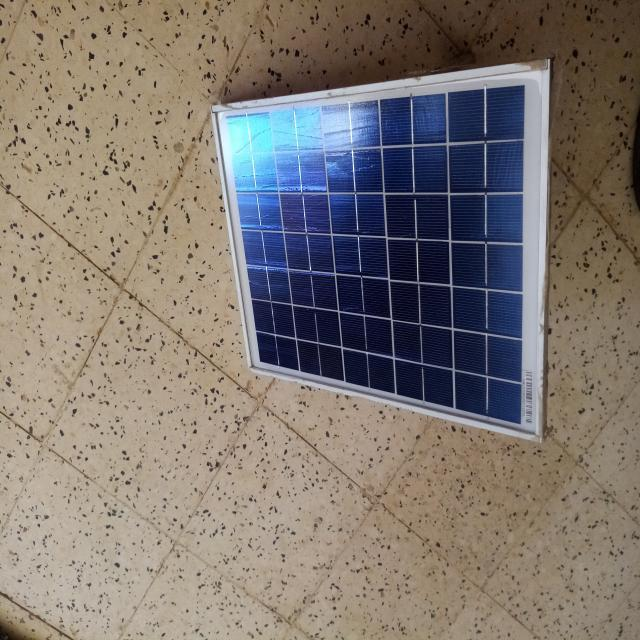no faulty: (214, 64, 548, 443)
